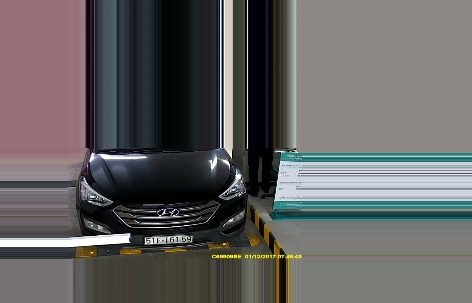plate: (143, 233, 195, 246)
